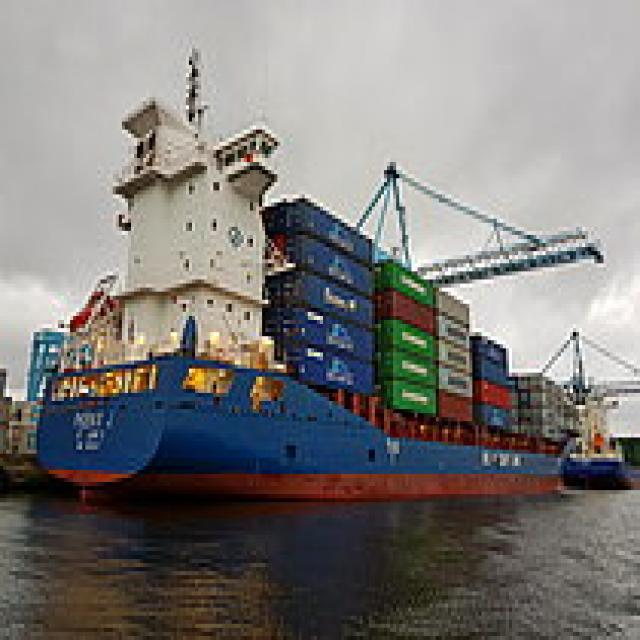Ship: (19, 30, 583, 516)
